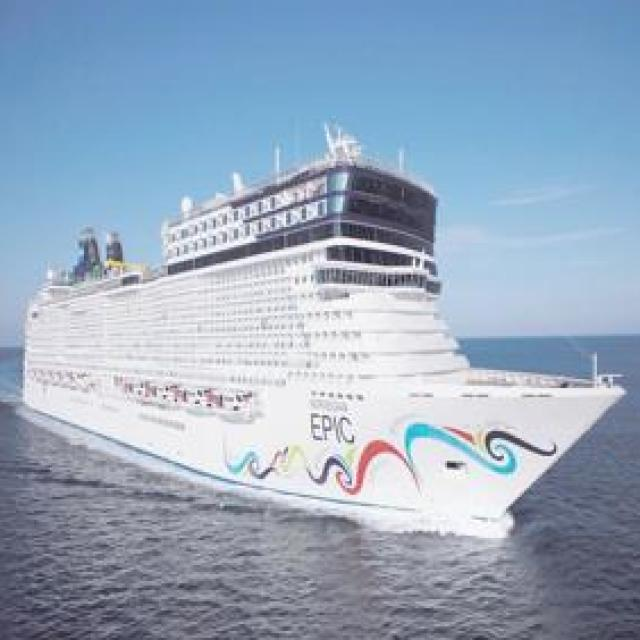passenger ship: (16, 122, 640, 554)
